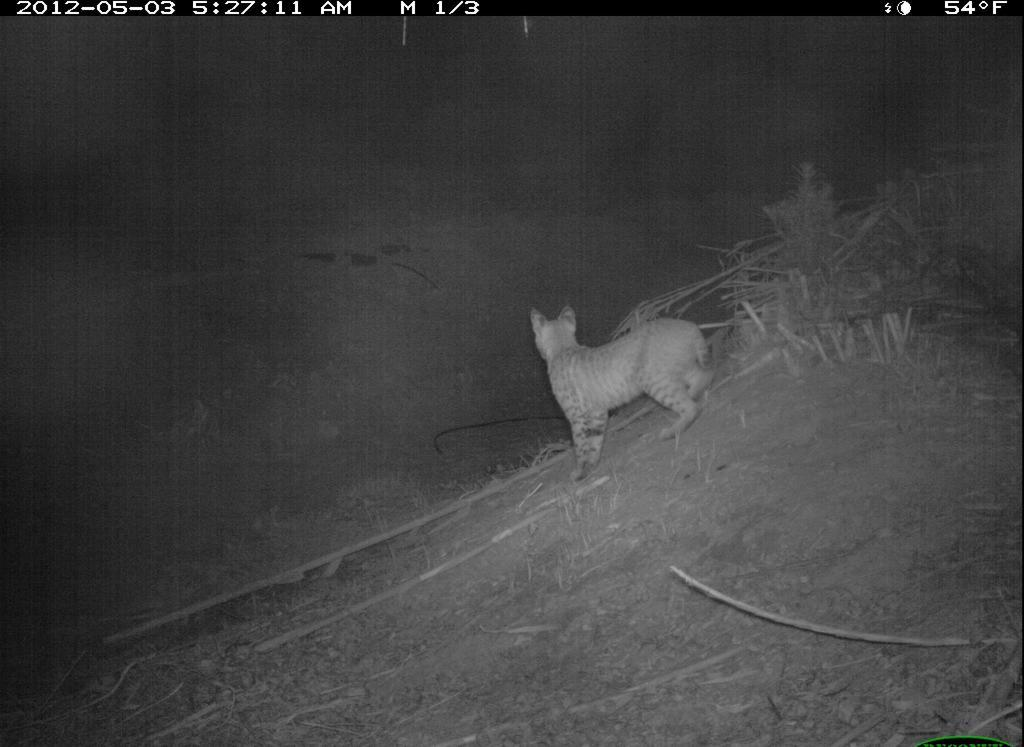bobcat: (521, 294, 728, 491)
